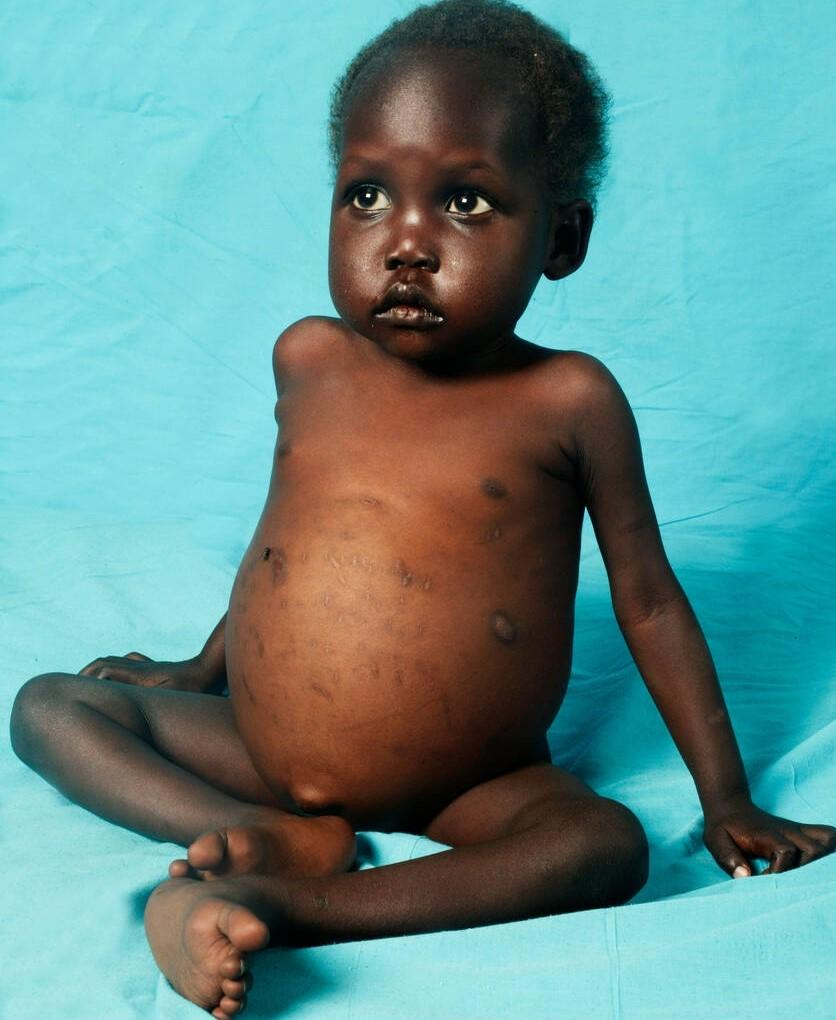Stunting: (230, 38, 637, 390)
